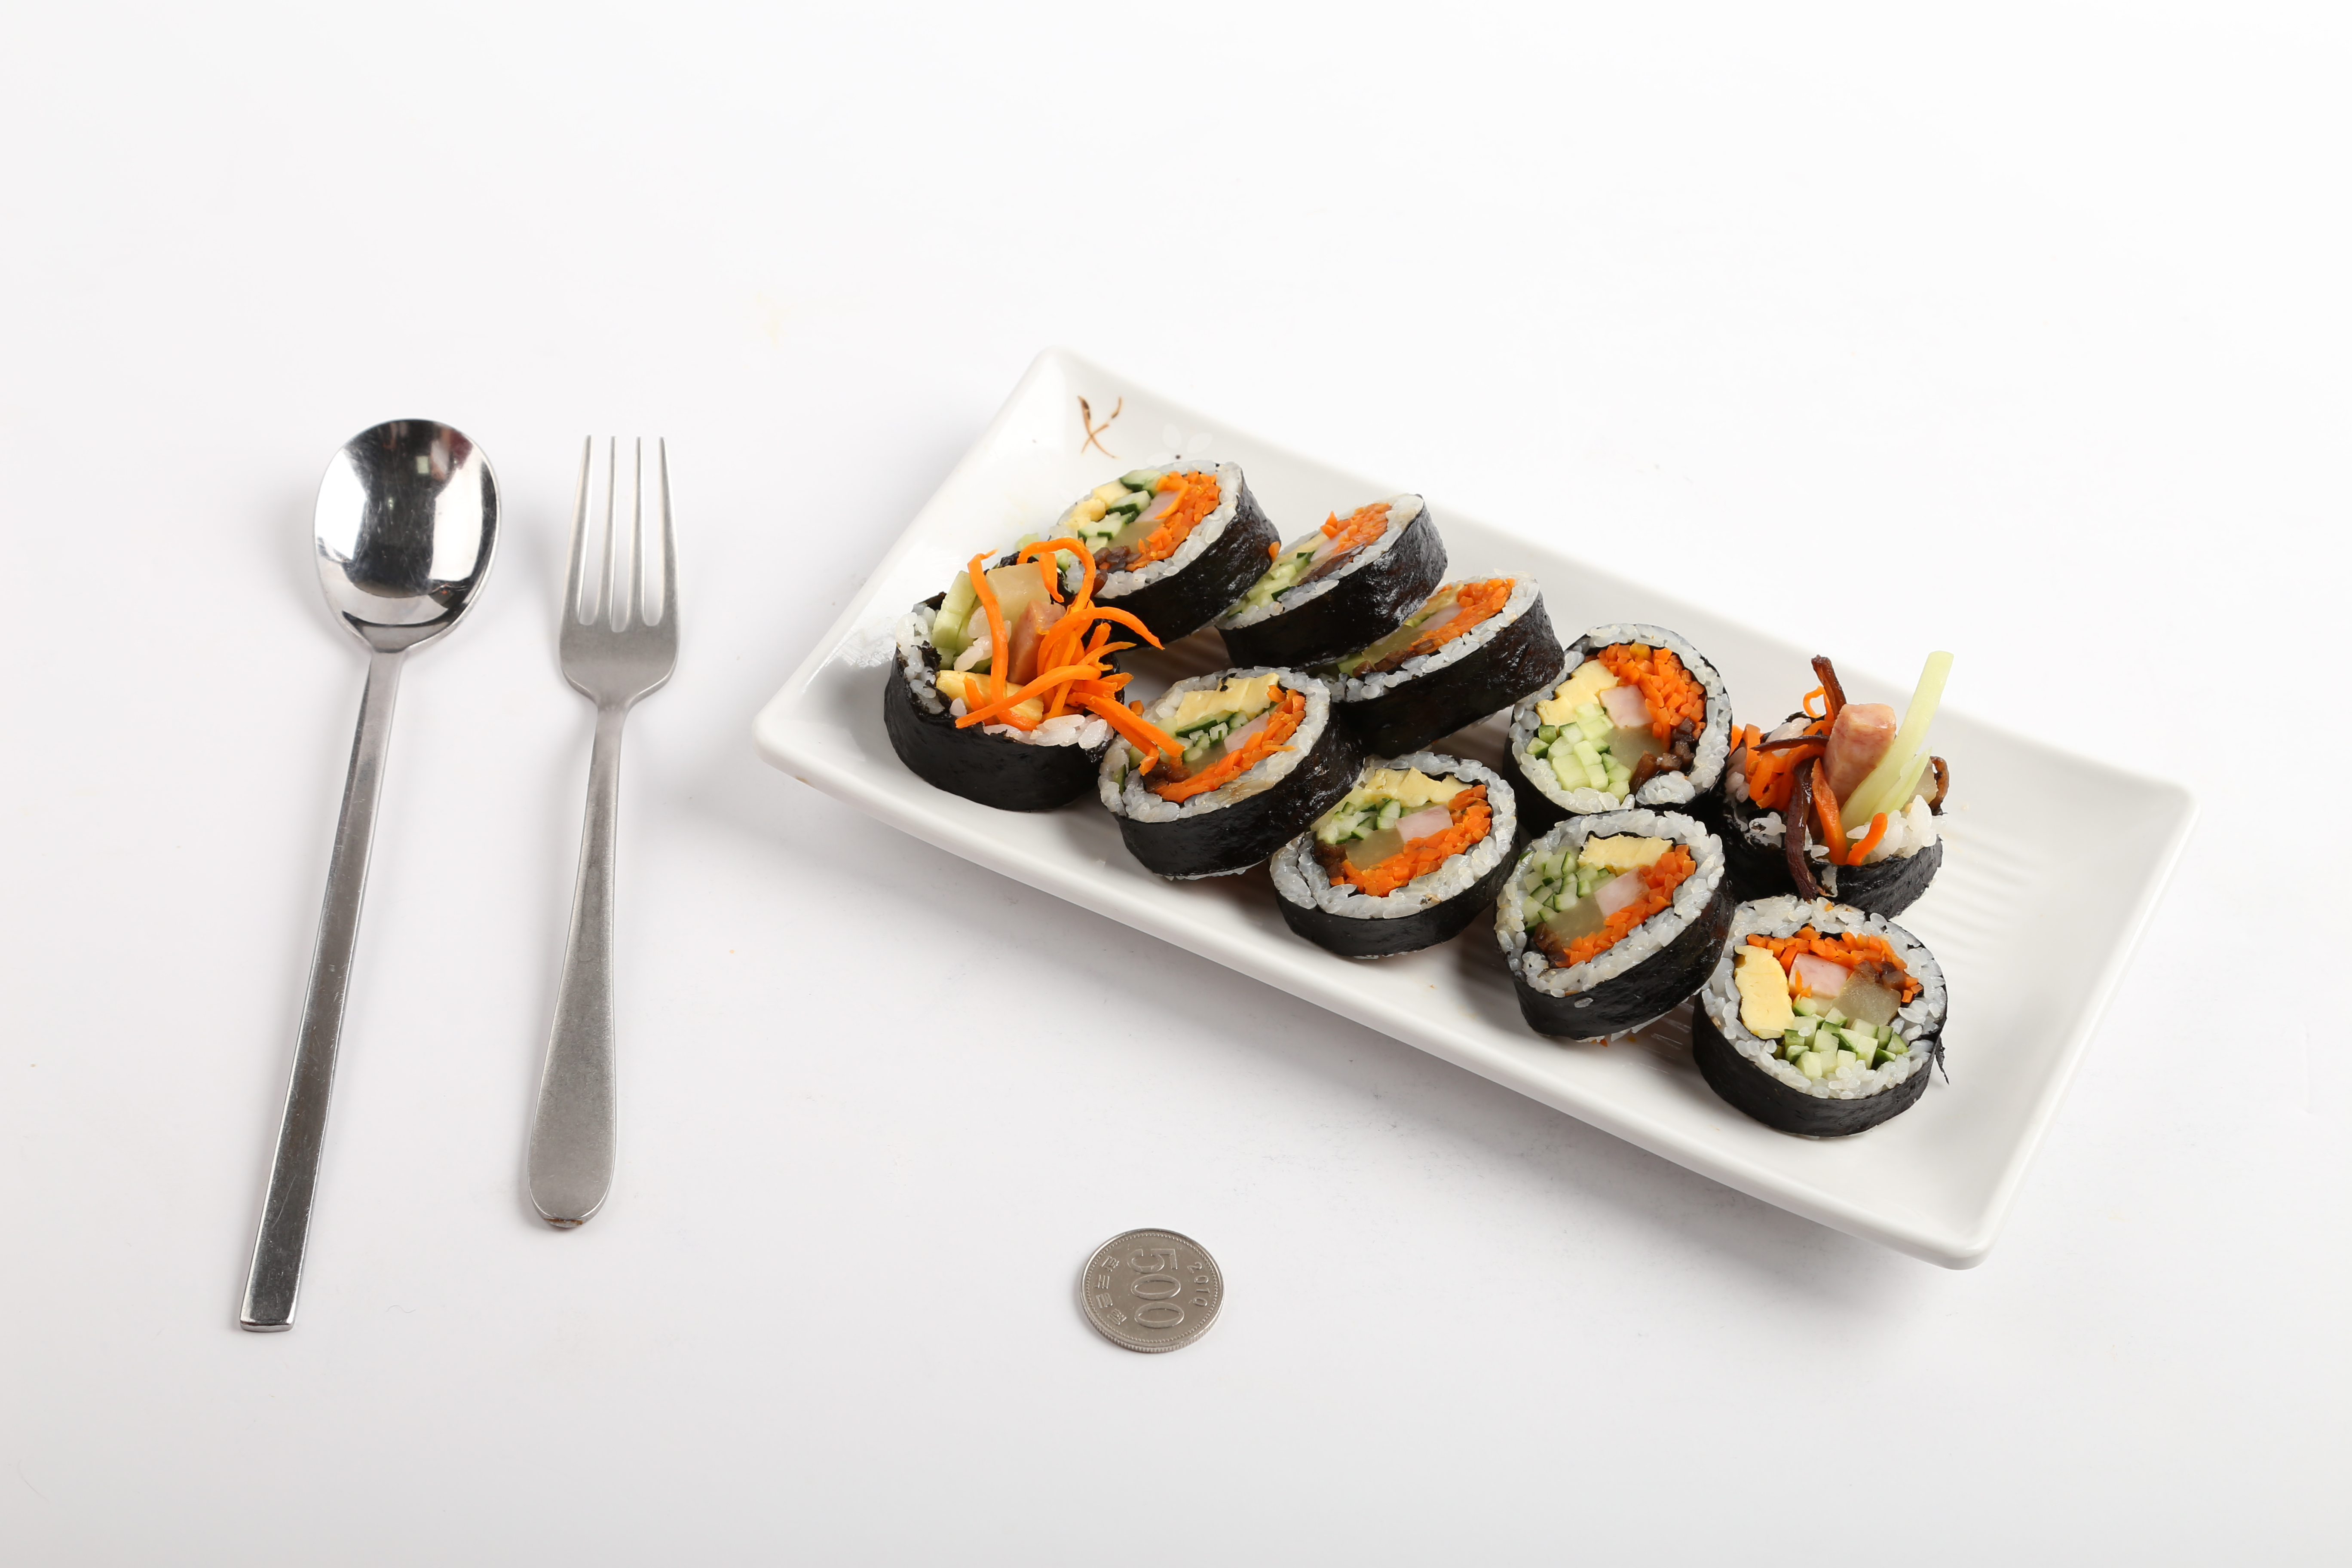dish: (758, 343, 2208, 1274)
ref_coin: (1071, 1216, 1228, 1358)
ref_fork: (551, 437, 684, 735)
ref_spoon: (304, 411, 506, 702)
김밥: (882, 448, 1948, 1141)
